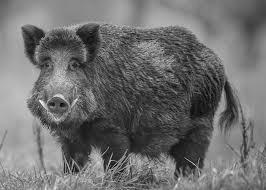wildboar: (17, 19, 240, 183)
